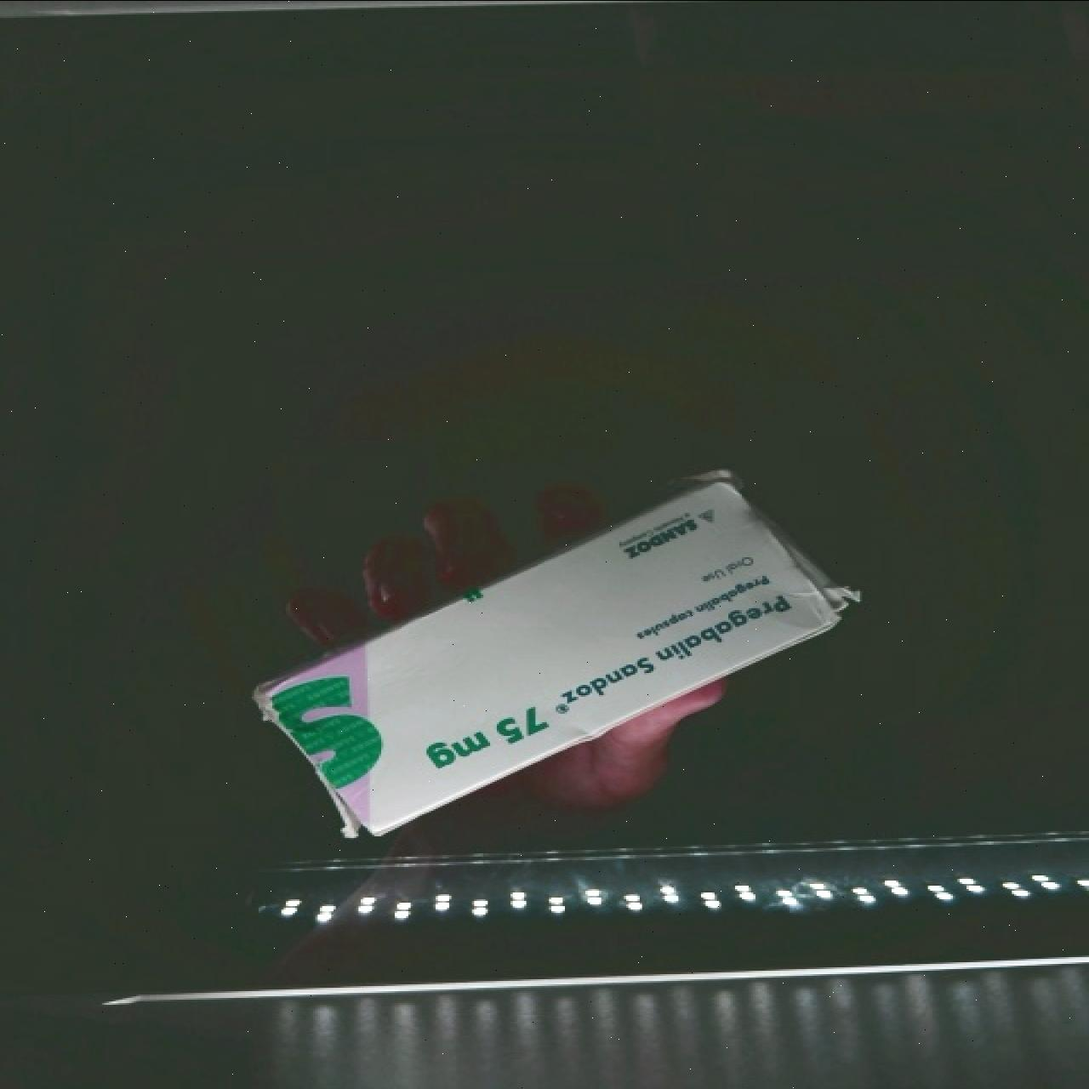medicine_label_obb: (535, 562, 813, 734)
